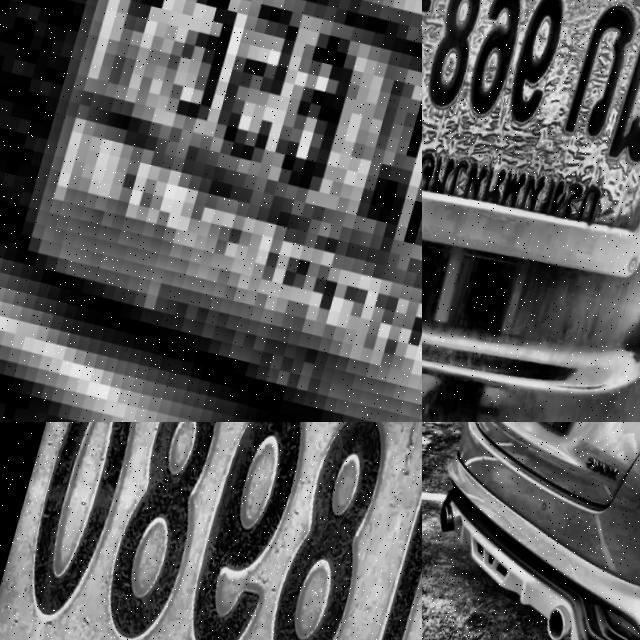license-plate: (0, 0, 422, 422), (0, 422, 422, 640), (422, 0, 640, 308), (498, 422, 598, 444)
